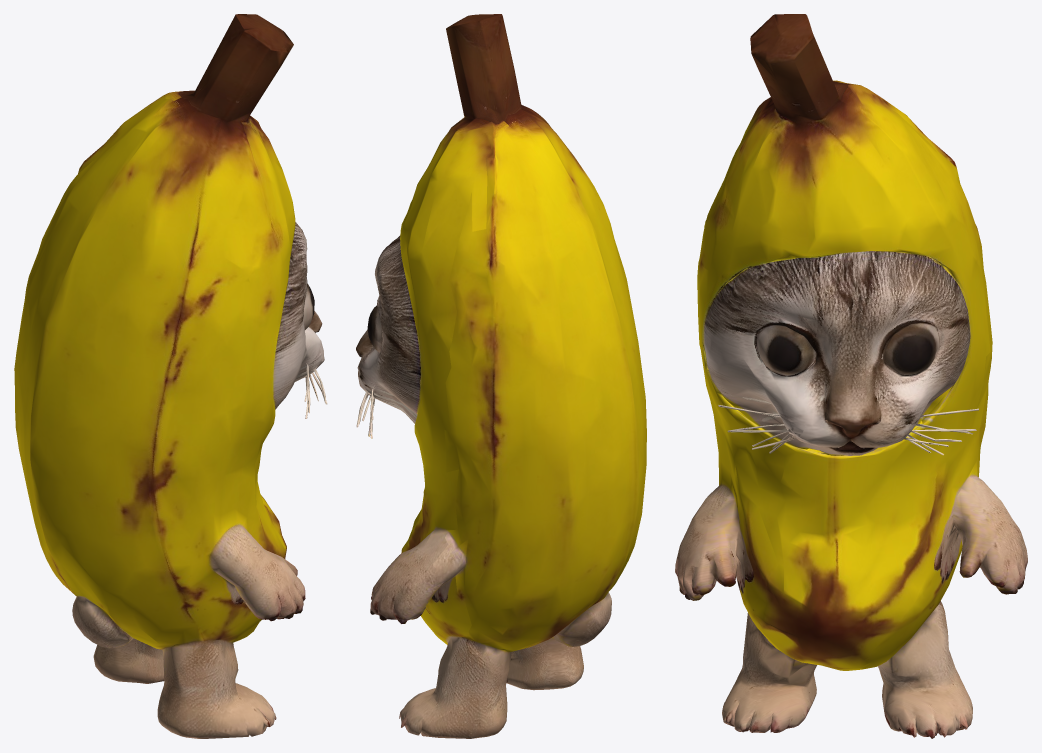
The model's file is minion-c.glb.
The picture shows the model from 3 angles, left to right: view 1: azimuth 30°, elevation 25°; view 2: azimuth 150°, elevation 25°; view 3: azimuth 270°, elevation 25°; orthographic projection. The views are drawn at different scales.
Visible parts, largest first — view 1: minion-c; view 2: minion-c; view 3: minion-c.
Part boxes in pixels (x1,y1,x2,y2): minion-c: [14, 14, 327, 738]; minion-c: [356, 14, 646, 738]; minion-c: [675, 14, 1027, 738].
Bounding box in the file's own units: 0.4275 × 0.9796 × 0.4375.
Materials: 1 (1 with a texture image).
